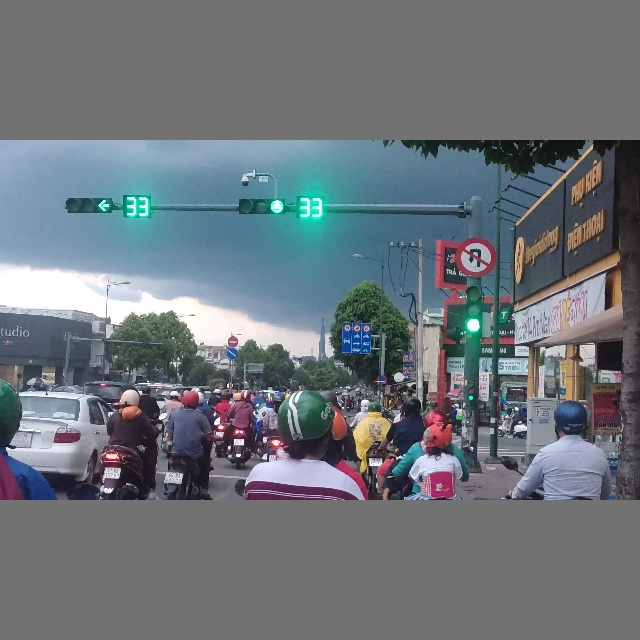P.102: (227, 336, 239, 347)
P.124a*: (455, 235, 497, 278)
R.302a: (227, 348, 239, 360)
R.415a: (341, 322, 372, 354)
